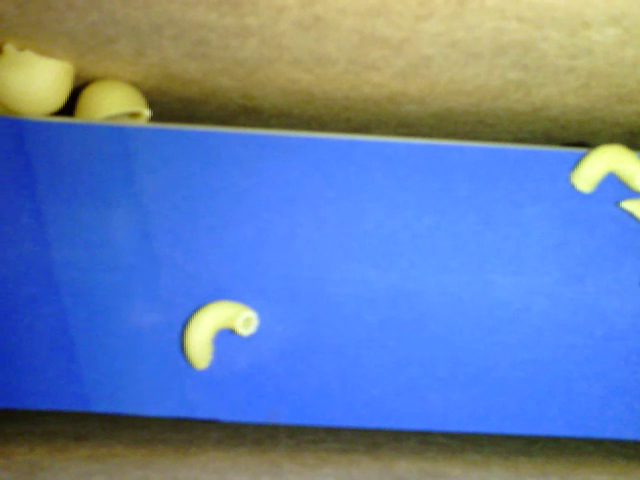elbow: (182, 299, 259, 370), (569, 143, 639, 193)
shell: (1, 43, 75, 115), (73, 78, 152, 121)
